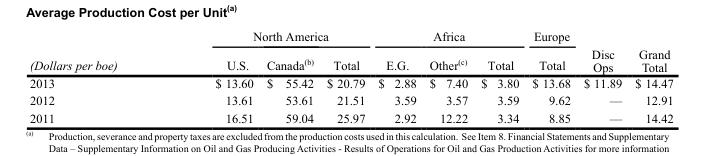table: (29, 29, 672, 124)
table column: (29, 29, 165, 124), (165, 29, 259, 124), (259, 29, 319, 124), (370, 29, 422, 124), (473, 29, 525, 124), (319, 29, 370, 124), (422, 29, 473, 124), (525, 29, 576, 124), (576, 29, 627, 124), (627, 29, 672, 124)
table column header: (29, 29, 672, 74)
table row: (29, 49, 672, 74), (29, 29, 672, 49), (29, 74, 672, 91), (29, 91, 672, 108), (29, 108, 672, 124)
table spanning cell: (29, 29, 165, 74), (165, 29, 370, 49), (370, 29, 525, 49), (525, 29, 576, 74), (576, 29, 627, 74), (627, 29, 672, 74)
